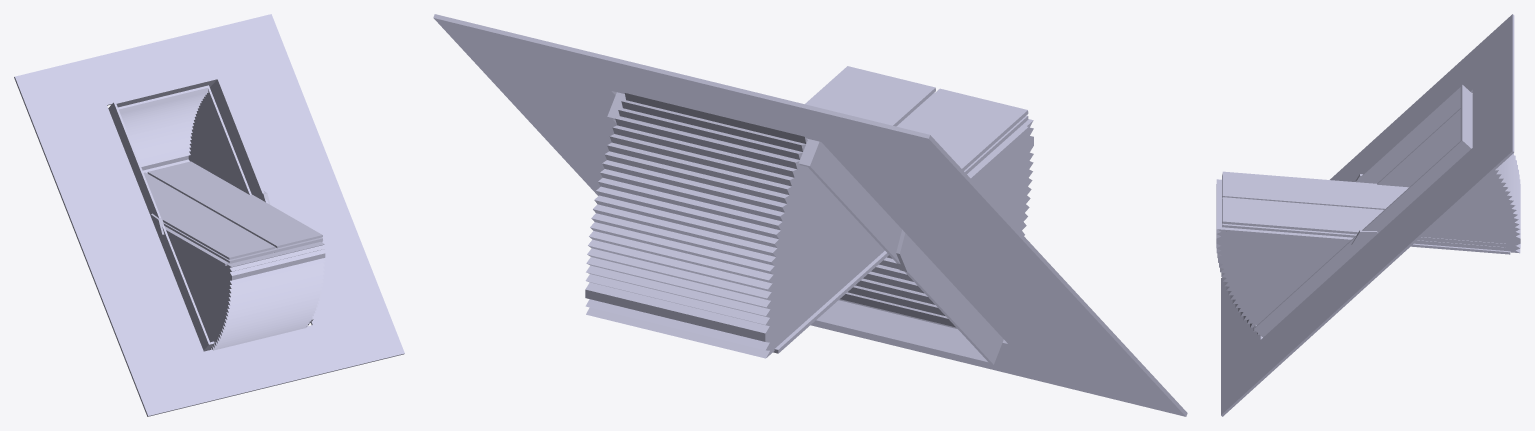
The model's file is RoofDock_-05deg.glb.
3 views of the same model, side by side, from view 1: azimuth 30°, elevation 25°; view 2: azimuth 150°, elevation 25°; view 3: azimuth 270°, elevation 25° (orthographic). The views are drawn at different scales.
Parts seen in each view (by area): view 1: copy_Body021, copy_Body023, copy_LinkGroup004, copy_Body022, copy_Body, copy_LinkGroup003; view 2: copy_Body021, copy_Body022, copy_Body, copy_LinkGroup004, copy_Body023, copy_LinkGroup003, copy_Body002; view 3: copy_Body021, copy_LinkGroup004, copy_Body022, copy_Body023, copy_Body, copy_LinkGroup003, copy_Body001.
Boxes of the visible parts, box(x1,y1,x2,y2) form: copy_Body021: box(14, 14, 404, 416); copy_Body023: box(167, 233, 325, 350); copy_LinkGroup004: box(143, 161, 322, 262); copy_Body022: box(118, 85, 251, 194); copy_Body: box(108, 77, 313, 351); copy_LinkGroup003: box(164, 226, 322, 265); copy_Body021: box(433, 14, 1187, 416); copy_Body022: box(585, 93, 884, 358); copy_Body: box(607, 92, 1003, 364); copy_LinkGroup004: box(805, 66, 1028, 173); copy_Body023: box(839, 119, 1033, 328); copy_LinkGroup003: box(773, 125, 1028, 353); copy_Body002: box(896, 229, 924, 271); copy_Body021: box(1221, 14, 1514, 416); copy_LinkGroup004: box(1222, 171, 1505, 249); copy_Body022: box(1377, 108, 1520, 253); copy_Body023: box(1216, 179, 1348, 335); copy_Body: box(1254, 84, 1472, 337); copy_LinkGroup003: box(1226, 227, 1510, 254); copy_Body001: box(1351, 230, 1377, 252).
Bounding box in the file's own units: 1.68 × 1.52 × 1.57.
